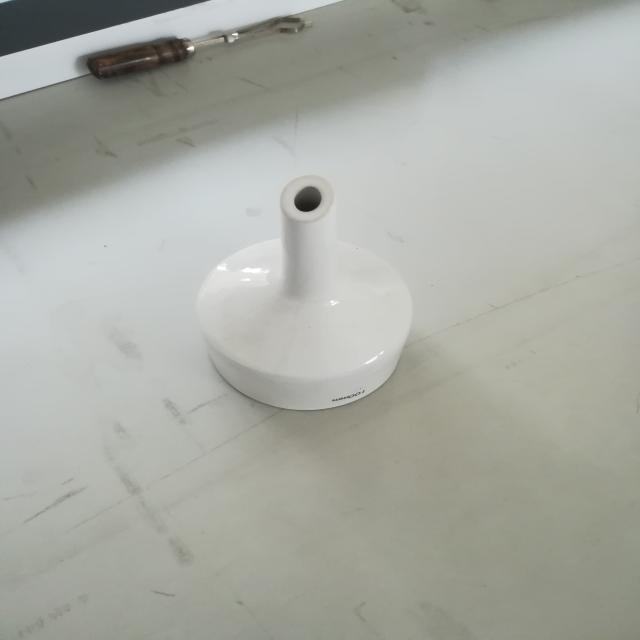Buchner_Funnel: (149, 131, 464, 449)
